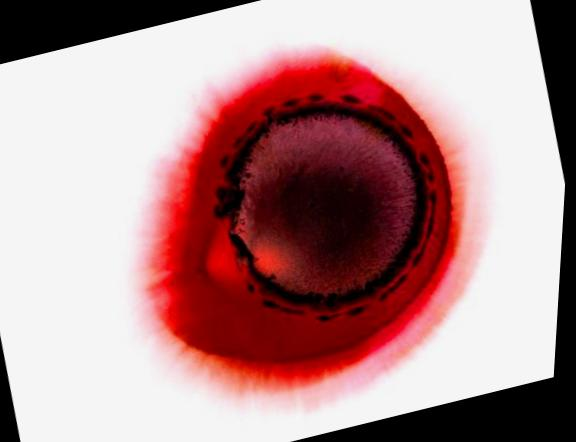Fire: (139, 47, 487, 408)
